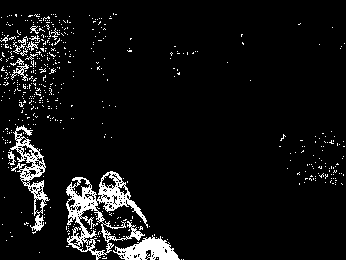person: (98, 169, 150, 260), (8, 128, 50, 232), (64, 174, 102, 258)
